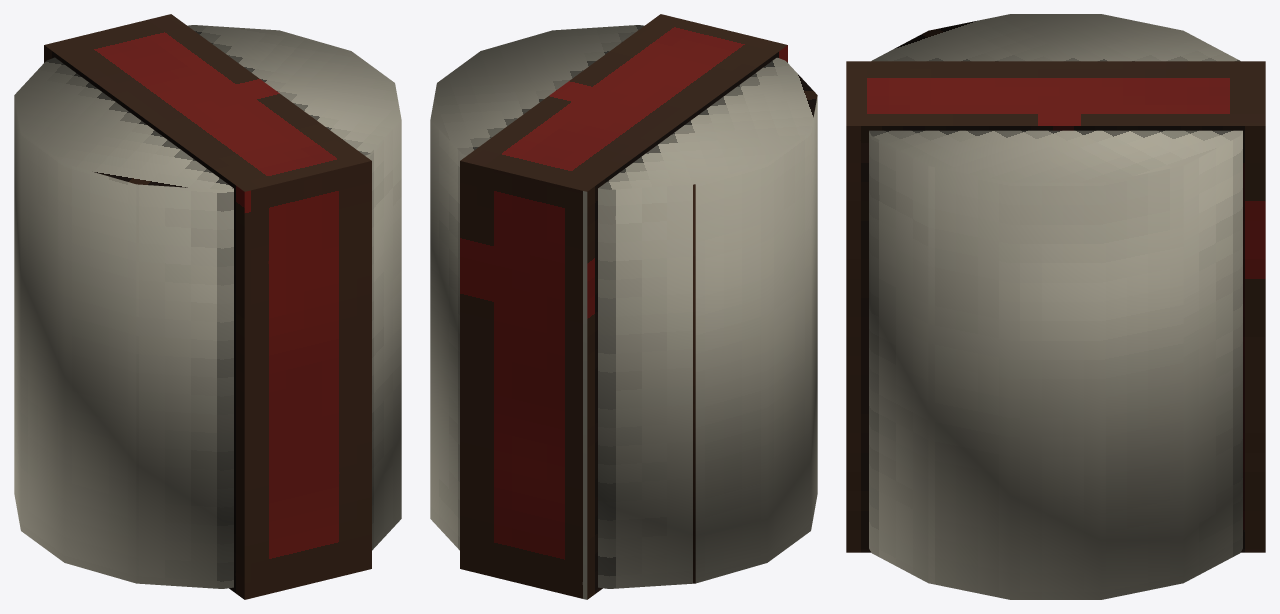
The model's file is pick_bandage.glb.
3 views of the same model, side by side, from view 1: azimuth 30°, elevation 25°; view 2: azimuth 150°, elevation 25°; view 3: azimuth 270°, elevation 25° (orthographic). The views are drawn at different scales.
Visible parts, largest first — view 1: pick_bandage; view 2: pick_bandage; view 3: pick_bandage.
Part boxes in pixels (x1,y1,x2,y2): pick_bandage: (14, 14, 401, 599); pick_bandage: (430, 14, 817, 599); pick_bandage: (846, 14, 1265, 599).
Bounding box in the file's own units: 0.078 × 0.092 × 0.082.
1 material, 1 textured.
